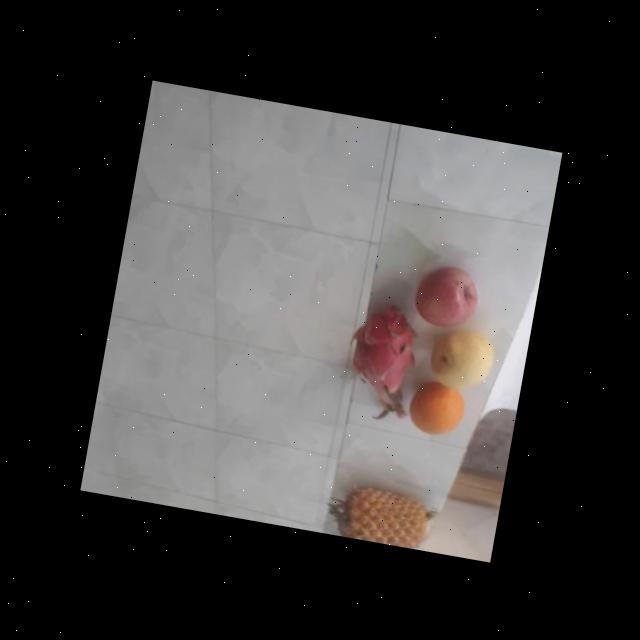apple: (409, 258, 485, 332)
orange: (406, 378, 468, 438)
pear: (422, 324, 498, 392)
pineapple: (334, 478, 436, 550)
pitaya: (341, 300, 434, 406)
